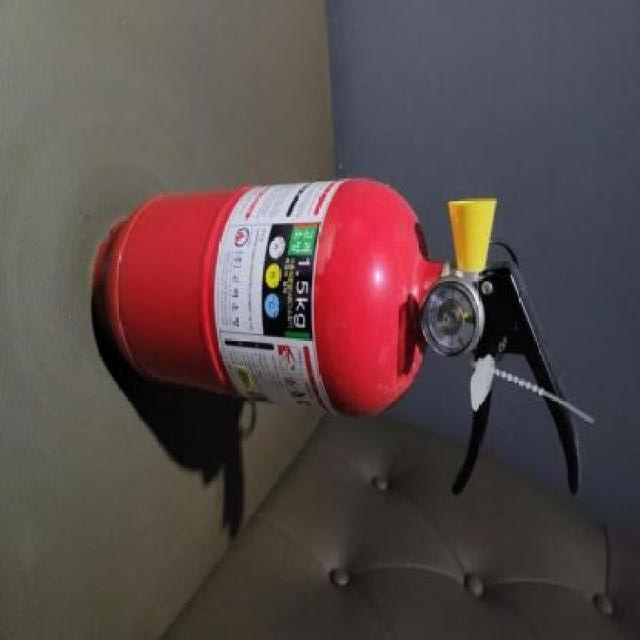fire extinguisher: (90, 176, 582, 498)
